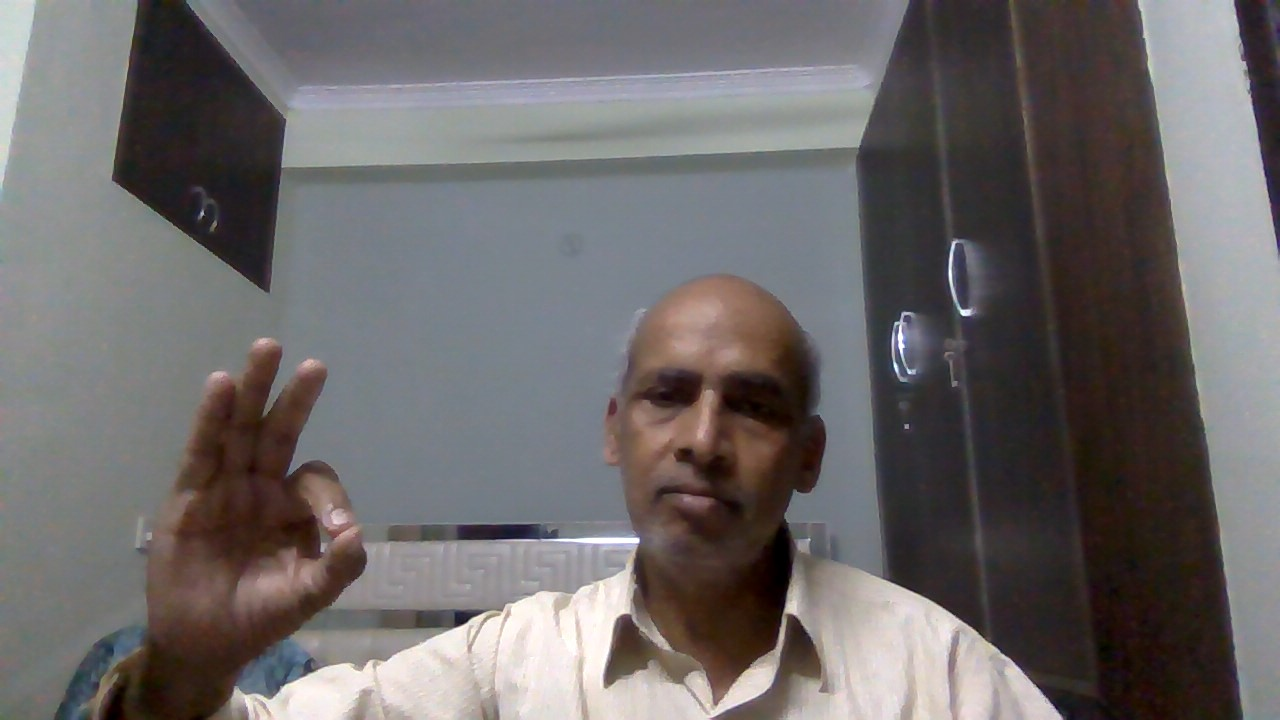Copy: (130, 319, 390, 683)
